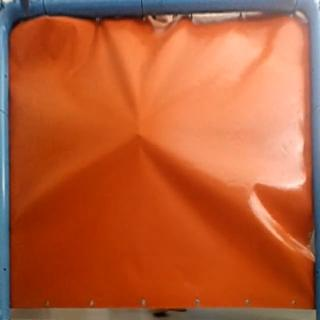Hit-hRxx: (130, 129, 144, 141)
